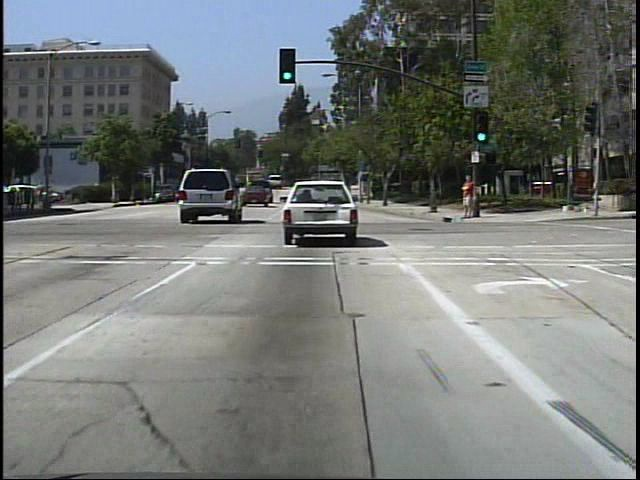person: (460, 171, 483, 223), (38, 180, 50, 212), (47, 183, 57, 210)
